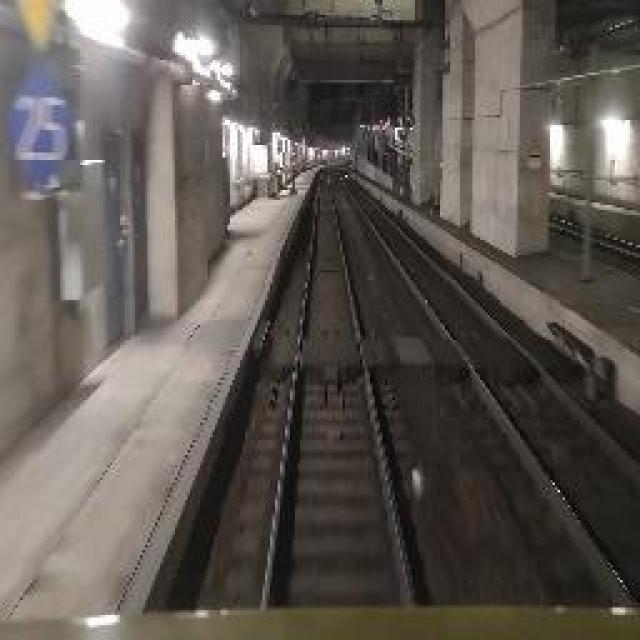rail: (234, 166, 445, 608)
